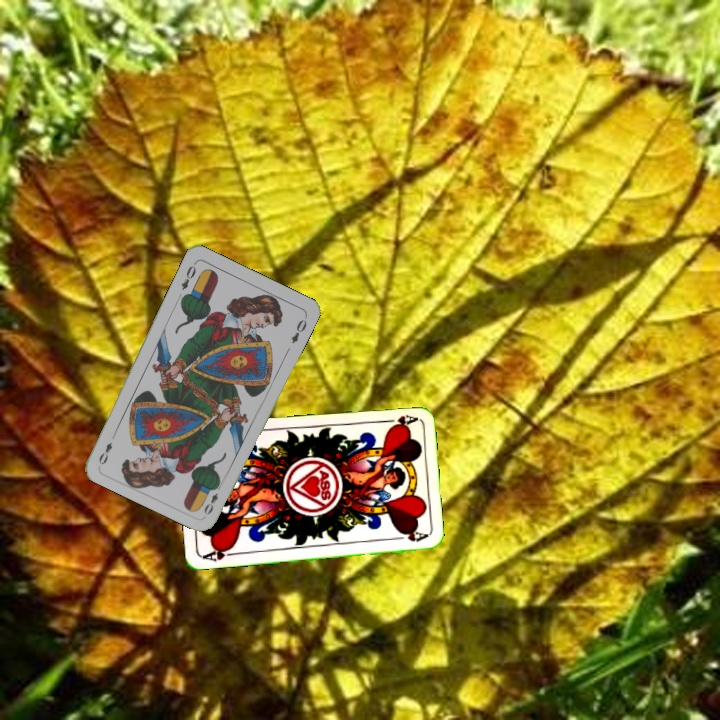EO: (200, 480, 225, 518), (177, 258, 198, 293)
HA: (199, 543, 240, 564), (378, 411, 419, 429)
